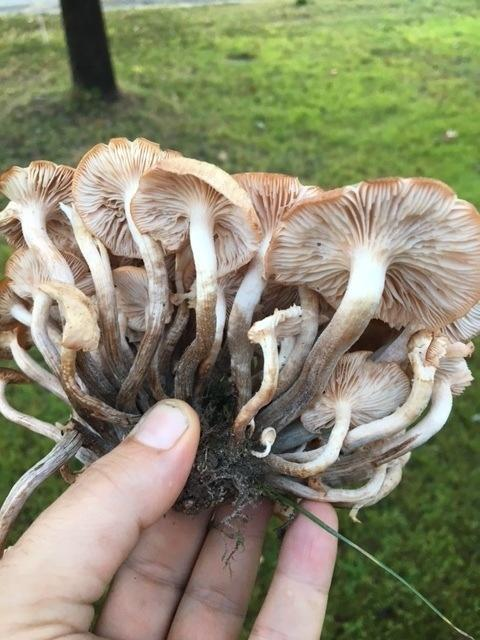Edible Mushroom: (0, 135, 479, 549)
